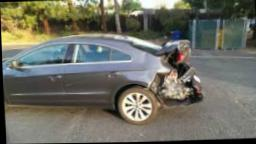Bumper: (157, 69, 204, 108)
Dickey: (155, 38, 193, 77)
Fender: (141, 50, 168, 92)
